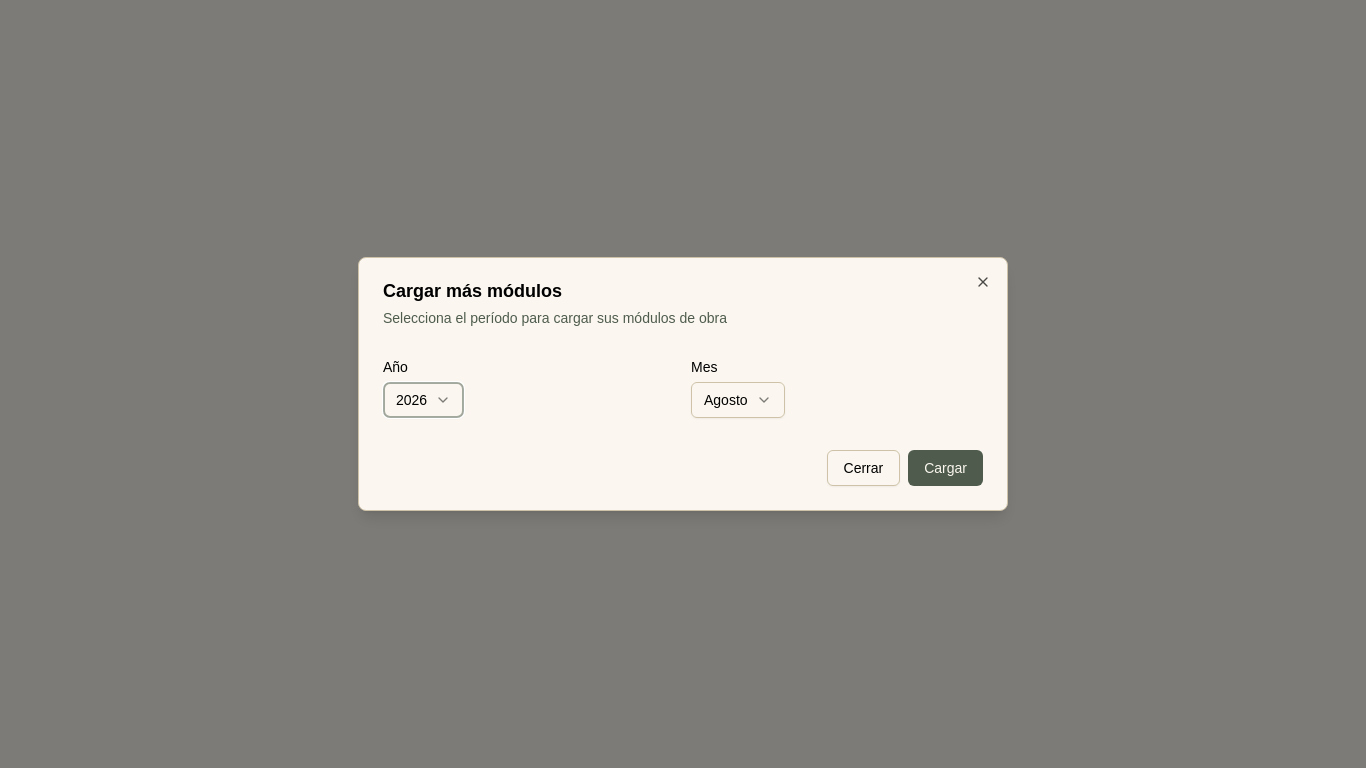
Test: LoadMoreModulesModal › shows error and Retry button when load fails
This screenshot has width=1366, height=768.
Step 1. Click the button "Cargar" → click(946, 468), box x1=908 y1=450 x2=983 y2=486
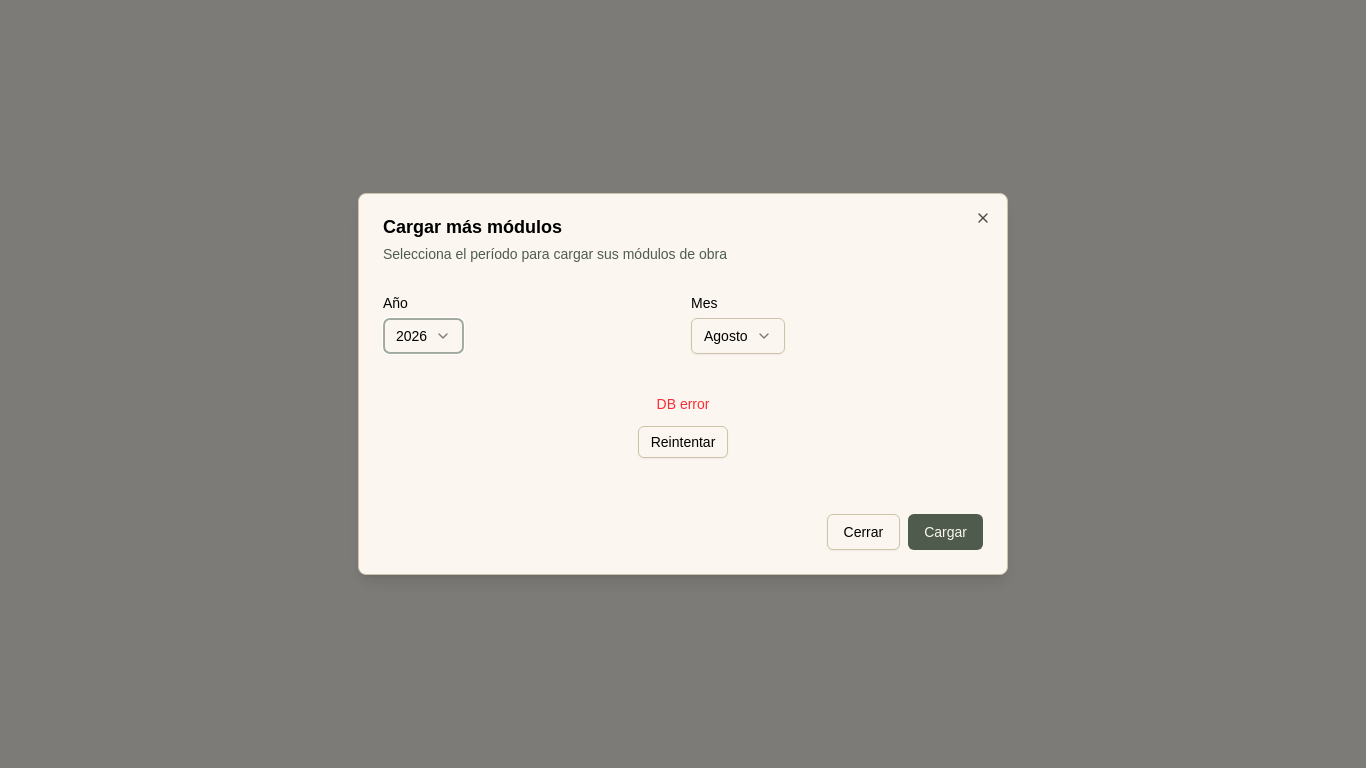
Result: the text "DB error" is shown at x1=656 y1=396 x2=709 y2=412
Result: the button "Reintentar" is shown at x1=638 y1=426 x2=728 y2=458
